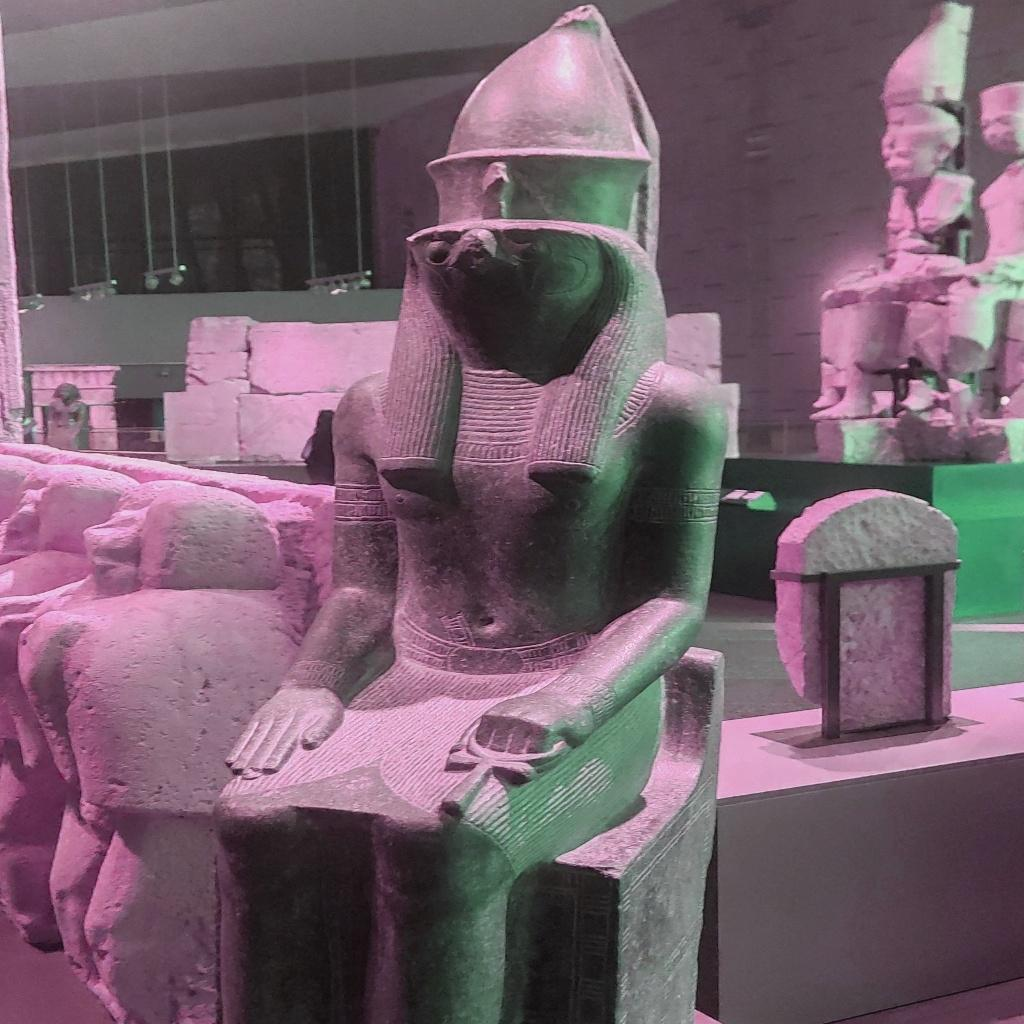Statue of God Ra-Horakhty: (222, 0, 752, 1009)
